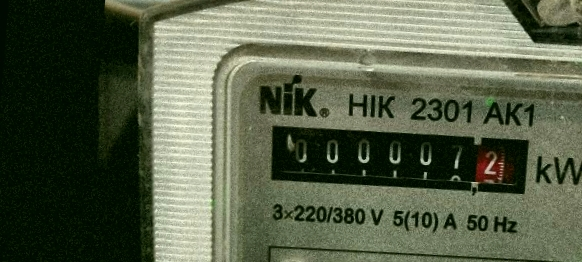0: (291, 135, 310, 163), (385, 137, 404, 165), (323, 135, 341, 164), (354, 135, 372, 164), (417, 138, 434, 167)
2: (481, 149, 499, 176)
7: (447, 140, 465, 171)
screen: (256, 111, 541, 206)
